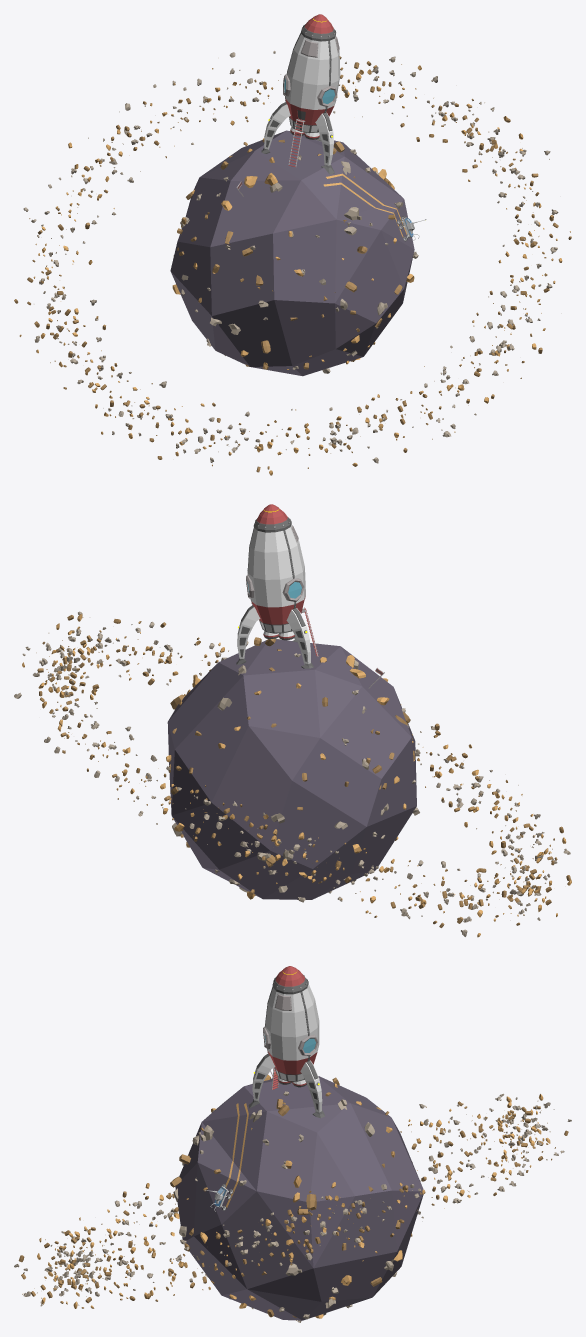
Rendered from space_exploration.glb.
The picture shows the model from 3 angles, top to bottom: view 1: azimuth 30°, elevation 25°; view 2: azimuth 150°, elevation 25°; view 3: azimuth 270°, elevation 25°; orthographic projection. The views are drawn at different scales.
Parts seen in each view (by area): view 1: planet.001; view 2: planet.001; view 3: planet.001.
Boxes of the visible parts, x1,y1,x2,y2 form: planet.001: (14, 14, 571, 475); planet.001: (14, 504, 571, 937); planet.001: (14, 966, 571, 1322).
Bounding box in the file's own units: 30.54 × 22.9 × 31.63.
1 material, 1 textured.
